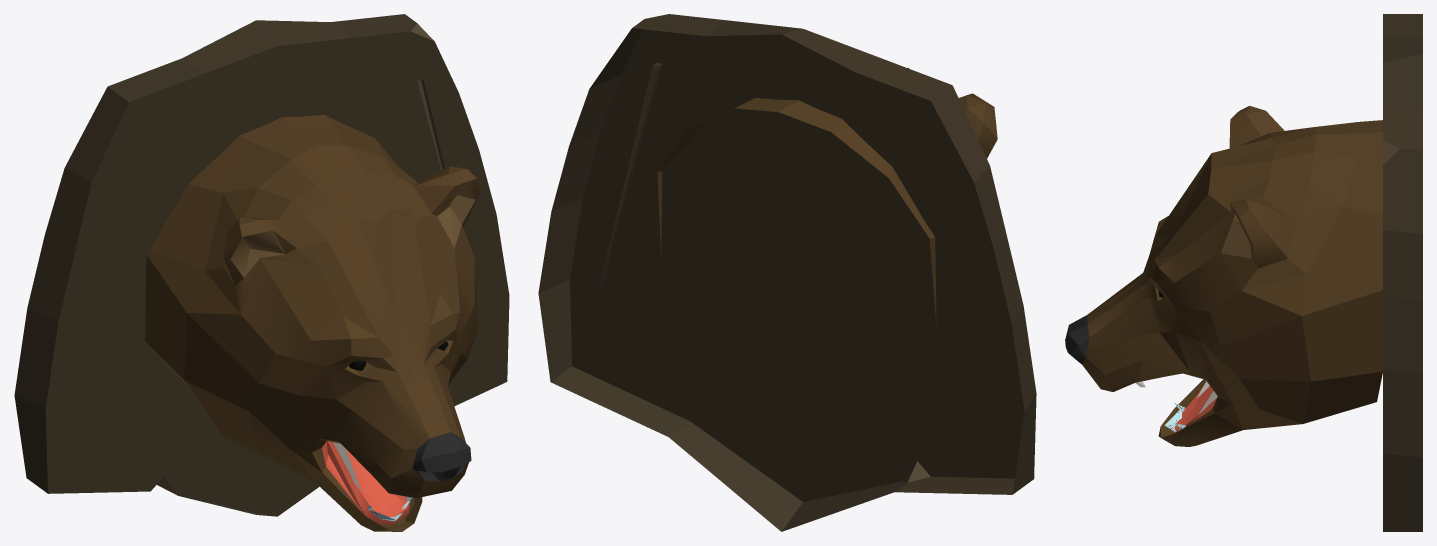
The model's file is EA_Prop_Hunter_Animal_Trophy_01a.glb.
The picture shows the model from 3 angles, left to right: view 1: azimuth 30°, elevation 25°; view 2: azimuth 150°, elevation 25°; view 3: azimuth 270°, elevation 25°; orthographic projection. The views are drawn at different scales.
Parts seen in each view (by area): view 1: EA_Prop_Hunter_Animal_Trophy_01a; view 2: EA_Prop_Hunter_Animal_Trophy_01a; view 3: EA_Prop_Hunter_Animal_Trophy_01a.
Boxes of the visible parts, x1,y1,x2,y2 form: EA_Prop_Hunter_Animal_Trophy_01a: (14, 14, 509, 531); EA_Prop_Hunter_Animal_Trophy_01a: (538, 14, 1036, 531); EA_Prop_Hunter_Animal_Trophy_01a: (1065, 14, 1422, 531).
Size of the model in its own units: 1.26 by 1.23 by 0.8674.
1 material, 1 textured.
